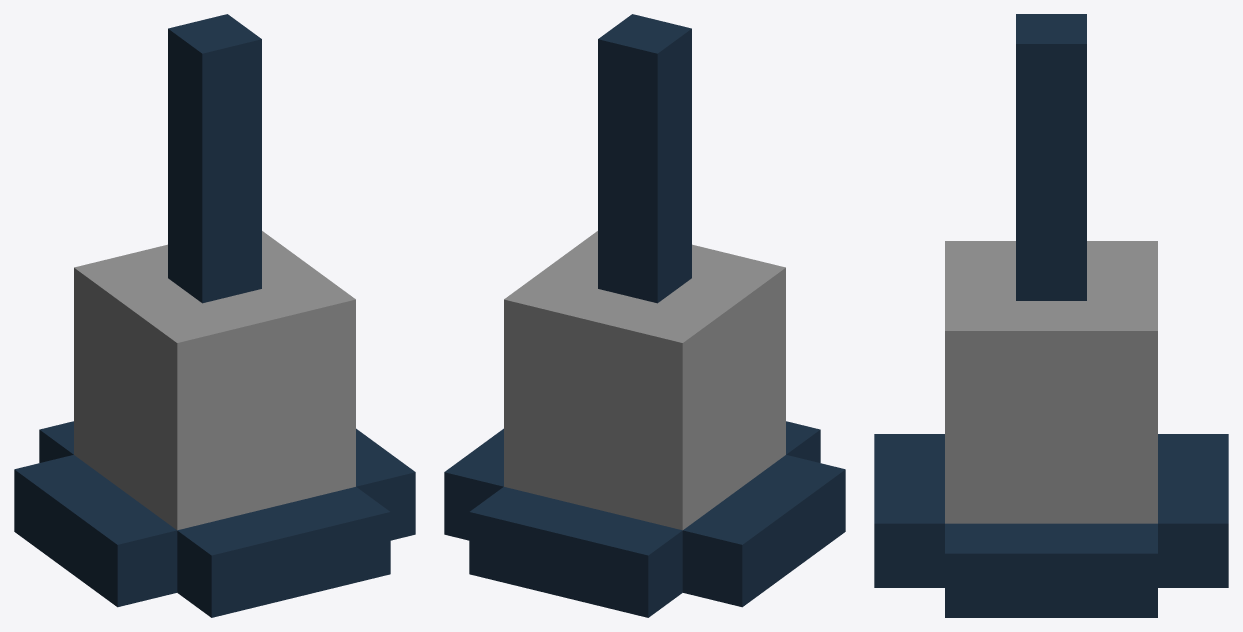
Rendered from sprinker_3.1-0-carrot_1.obj.
The picture shows the model from 3 angles, left to right: view 1: azimuth 30°, elevation 25°; view 2: azimuth 150°, elevation 25°; view 3: azimuth 270°, elevation 25°; orthographic projection. The views are drawn at different scales.
Visible parts, largest first — view 1: carrot_1; view 2: carrot_1; view 3: carrot_1.
Part boxes in pixels (x1=…): carrot_1: x1=14, y1=14, x2=415, y2=617; carrot_1: x1=444, y1=14, x2=845, y2=617; carrot_1: x1=874, y1=14, x2=1228, y2=617.
Bounding box in the file's own units: 1 × 1.6 × 1.
Materials: 1 (1 with a texture image).
